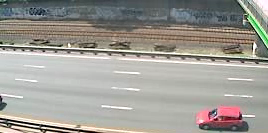car: (194, 106, 245, 132)
